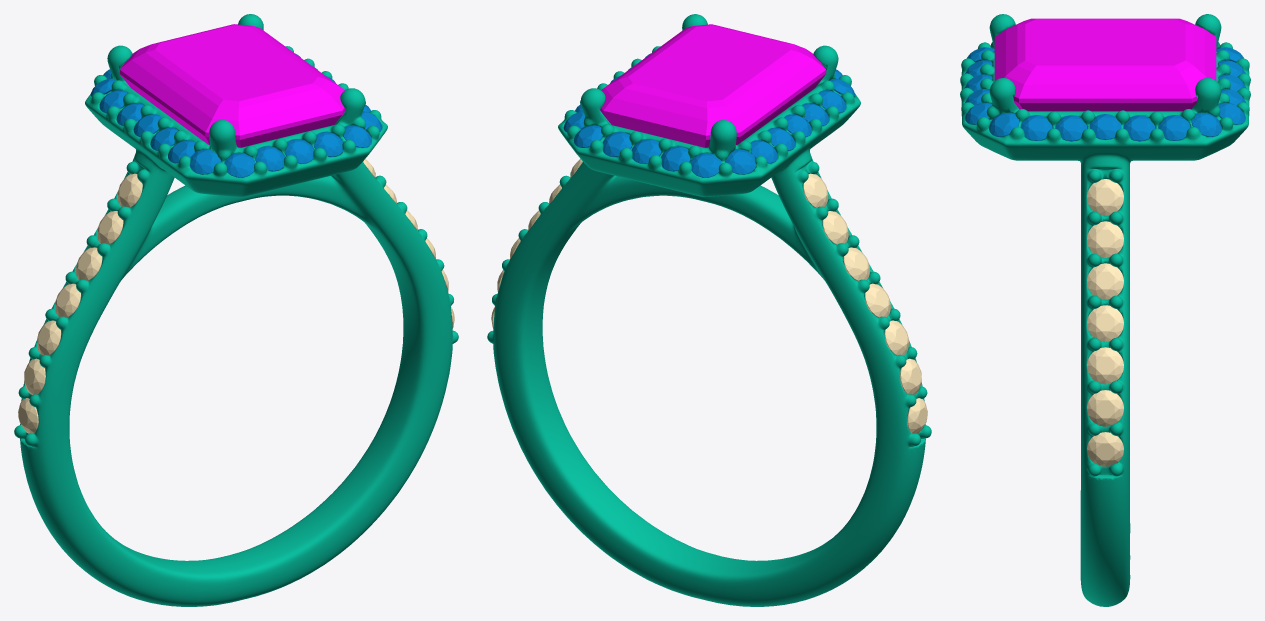
Rendered from BE1BDB30R30_EM_200ct_RENDER.glb.
3 renders of one model, left to right at view 1: azimuth 30°, elevation 25°; view 2: azimuth 150°, elevation 25°; view 3: azimuth 270°, elevation 25°, orthographic.
Visible parts, largest first — view 1: Metal 01, CS_Diamond_Emerald, Diamond_Round_Gem_SH.010, Diamond_Round_Gem_SH.011, Diamond_Round_Gem_SH.009, Diamond_Round_Gem_SH.012, Diamond_Round_Gem_SH.013, Diamond_Round_Gem_SH.008, Diamond_Round_Gem_HD.019, Diamond_Round_Gem_HD.018; view 2: Metal 01, CS_Diamond_Emerald, Diamond_Round_Gem_SH.010, Diamond_Round_Gem_SH.011, Diamond_Round_Gem_SH.012, Diamond_Round_Gem_SH.009, Diamond_Round_Gem_SH.013, Diamond_Round_Gem_SH.008, Diamond_Round_Gem_HD.016, Diamond_Round_Gem_HD.017; view 3: Metal 01, CS_Diamond_Emerald, Diamond_Round_Gem_SH.005, Diamond_Round_Gem_SH.004, Diamond_Round_Gem_SH, Diamond_Round_Gem_SH.003, Diamond_Round_Gem_SH.002, Diamond_Round_Gem_SH.001, Diamond_Round_Gem_SH.006, Diamond_Round_Gem_HD, Diamond_Round_Gem_HD.009, Diamond_Round_Gem_HD.010 (+5 smaller).
Part boxes in pixels (x1,y1,x2,y2): Metal 01: (14,14,458,606); CS_Diamond_Emerald: (119,24,345,147); Diamond_Round_Gem_SH.010: (55,283,80,317); Diamond_Round_Gem_SH.011: (75,247,102,280); Diamond_Round_Gem_SH.009: (37,320,61,355); Diamond_Round_Gem_SH.012: (97,211,123,244); Diamond_Round_Gem_SH.013: (117,173,142,207); Diamond_Round_Gem_SH.008: (24,358,45,394); Diamond_Round_Gem_HD.019: (224,153,255,177); Diamond_Round_Gem_HD.018: (189,149,220,174); Metal 01: (487,14,931,606); CS_Diamond_Emerald: (600,24,826,147); Diamond_Round_Gem_SH.010: (865,283,890,317); Diamond_Round_Gem_SH.011: (843,247,870,280); Diamond_Round_Gem_SH.012: (822,211,848,244); Diamond_Round_Gem_SH.009: (884,320,908,355); Diamond_Round_Gem_SH.013: (803,173,828,207); Diamond_Round_Gem_SH.008: (900,358,921,394); Diamond_Round_Gem_HD.016: (690,153,721,177); Diamond_Round_Gem_HD.017: (725,149,756,174); Metal 01: (960,14,1250,606); CS_Diamond_Emerald: (994,18,1216,111); Diamond_Round_Gem_SH.005: (1087,390,1123,426); Diamond_Round_Gem_SH.004: (1087,347,1123,384); Diamond_Round_Gem_SH: (1087,179,1123,215); Diamond_Round_Gem_SH.003: (1087,305,1123,341); Diamond_Round_Gem_SH.002: (1087,263,1123,299); Diamond_Round_Gem_SH.001: (1087,221,1123,257); Diamond_Round_Gem_SH.006: (1087,432,1123,466); Diamond_Round_Gem_HD: (1158,115,1190,140); Diamond_Round_Gem_HD.009: (1020,115,1052,140); Diamond_Round_Gem_HD.010: (1089,114,1121,139).
Size of the model in its own units: 20.45 by 24.19 by 11.82.
